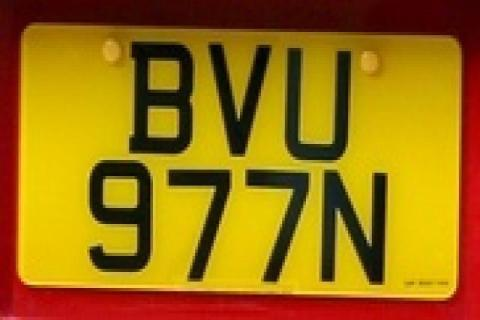LicensePlate: (13, 7, 466, 309)
